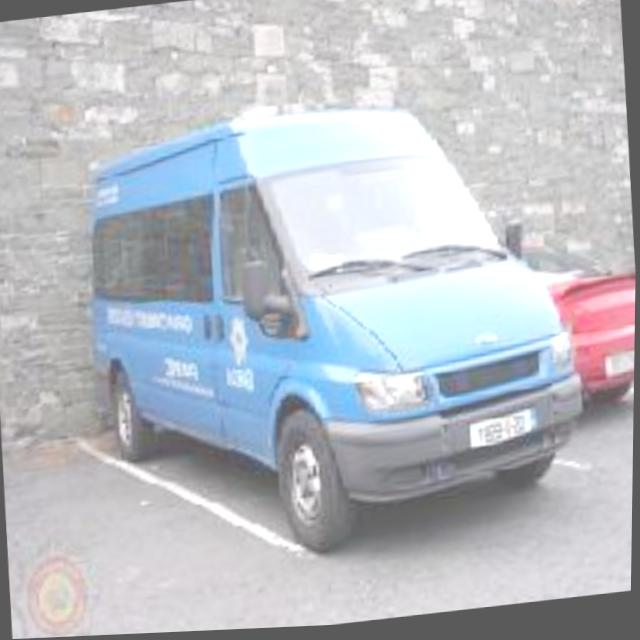emergency: (71, 75, 579, 543)
